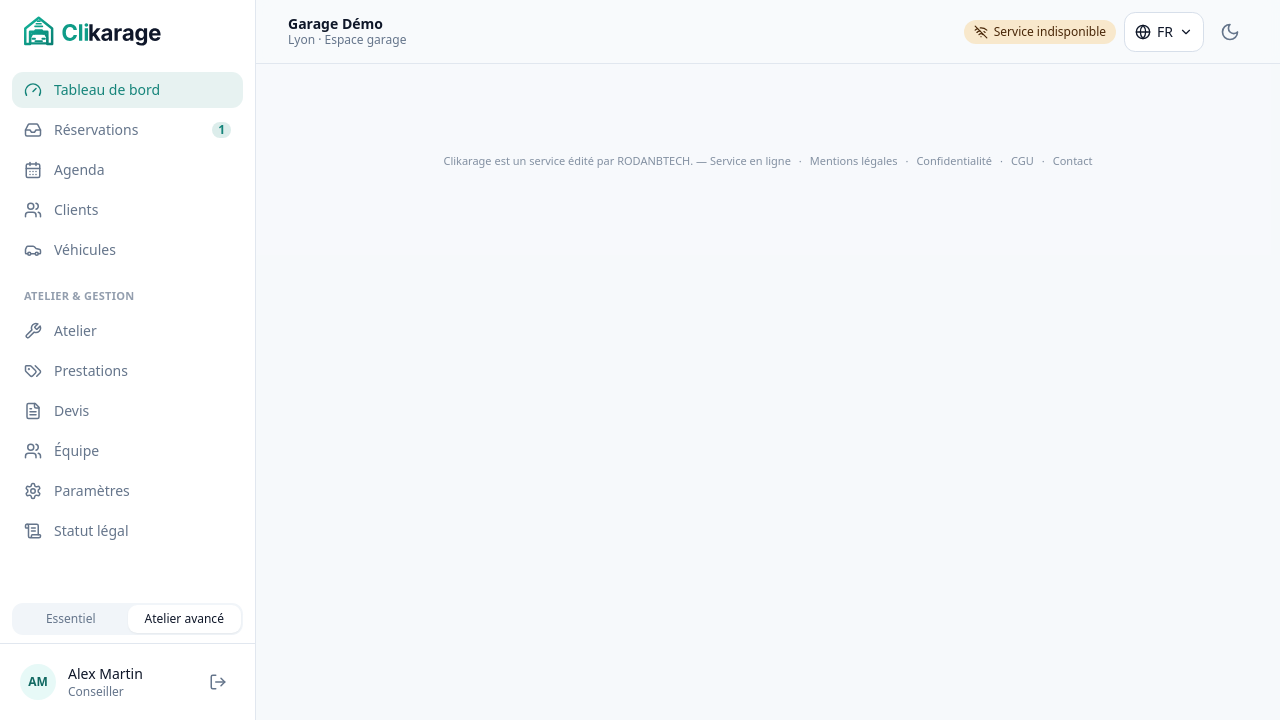
Test case: authenticated shell localization › changes the garage navigation to English from its authenticated header
Click the button "FR".
click(1164, 32)  # box [1124,12,1204,52]
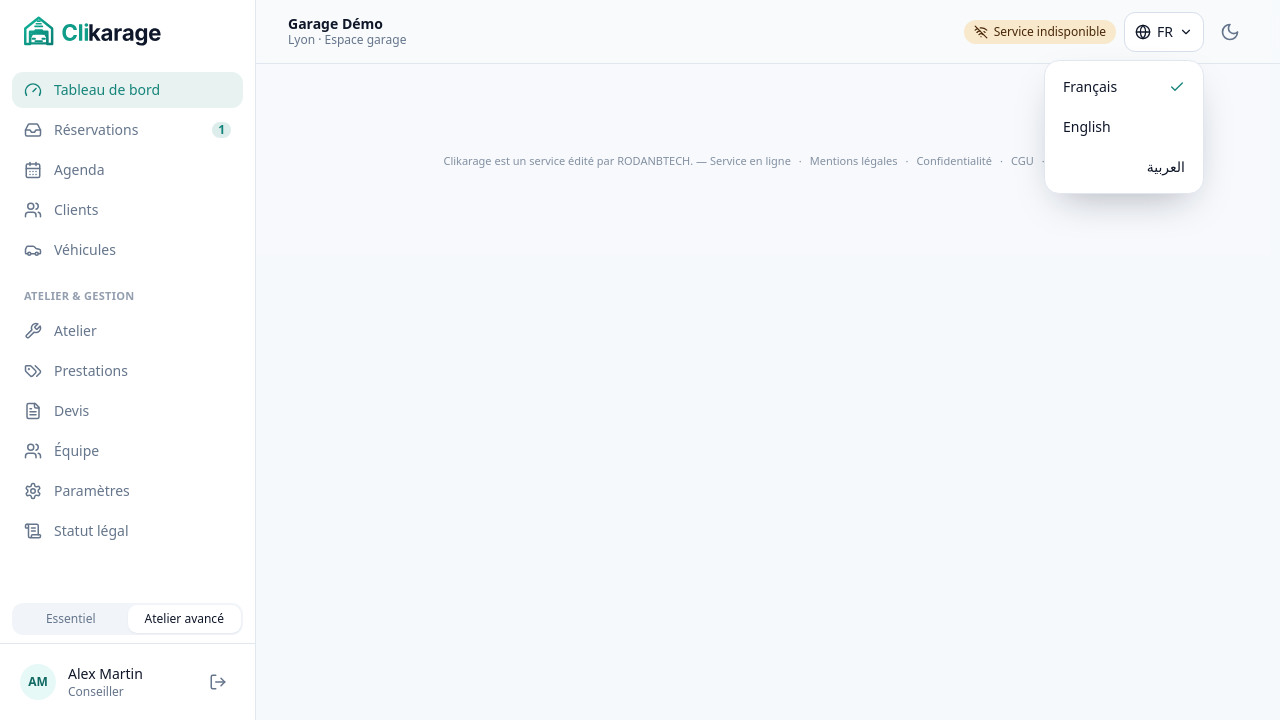
Click the menu item "English".
click(1124, 126)  # box [1051,106,1197,146]
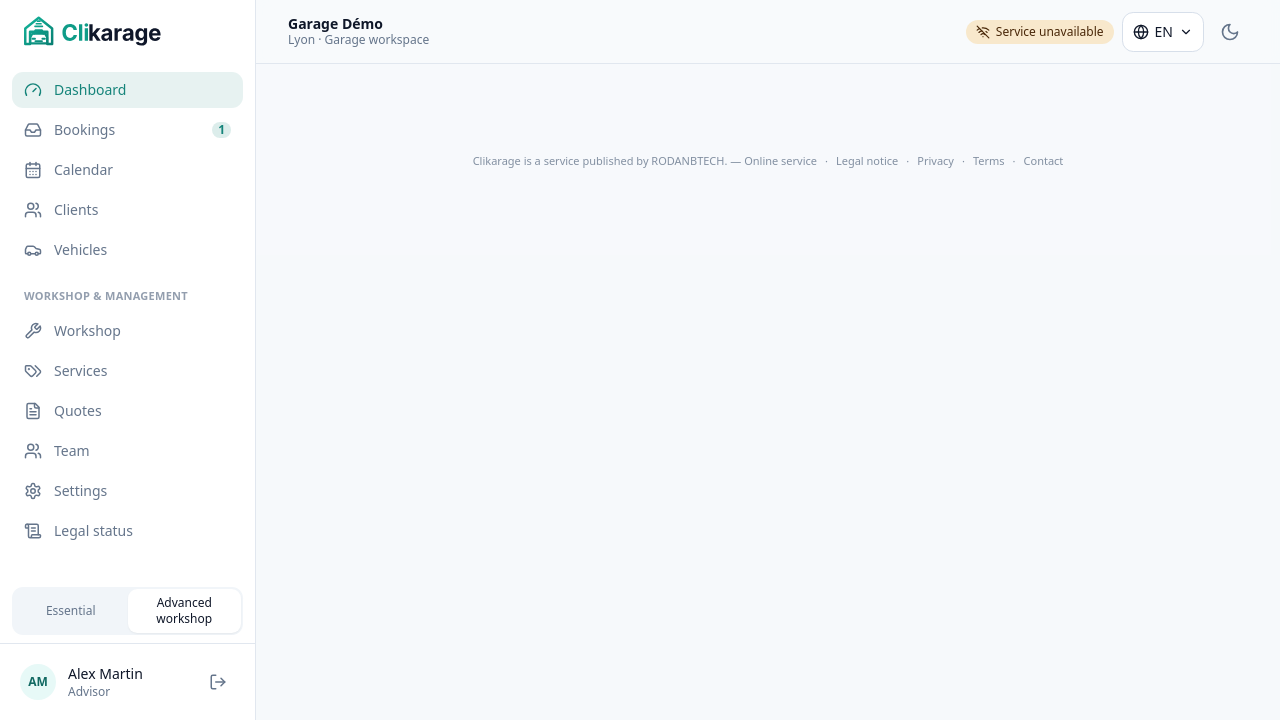
Check: the text "Dashboard" is shown, box [54,80,126,99]
Check: the text "Bookings" is shown, box [54,120,115,139]
Check: the text "Workshop" is shown, box [24,288,188,303]
